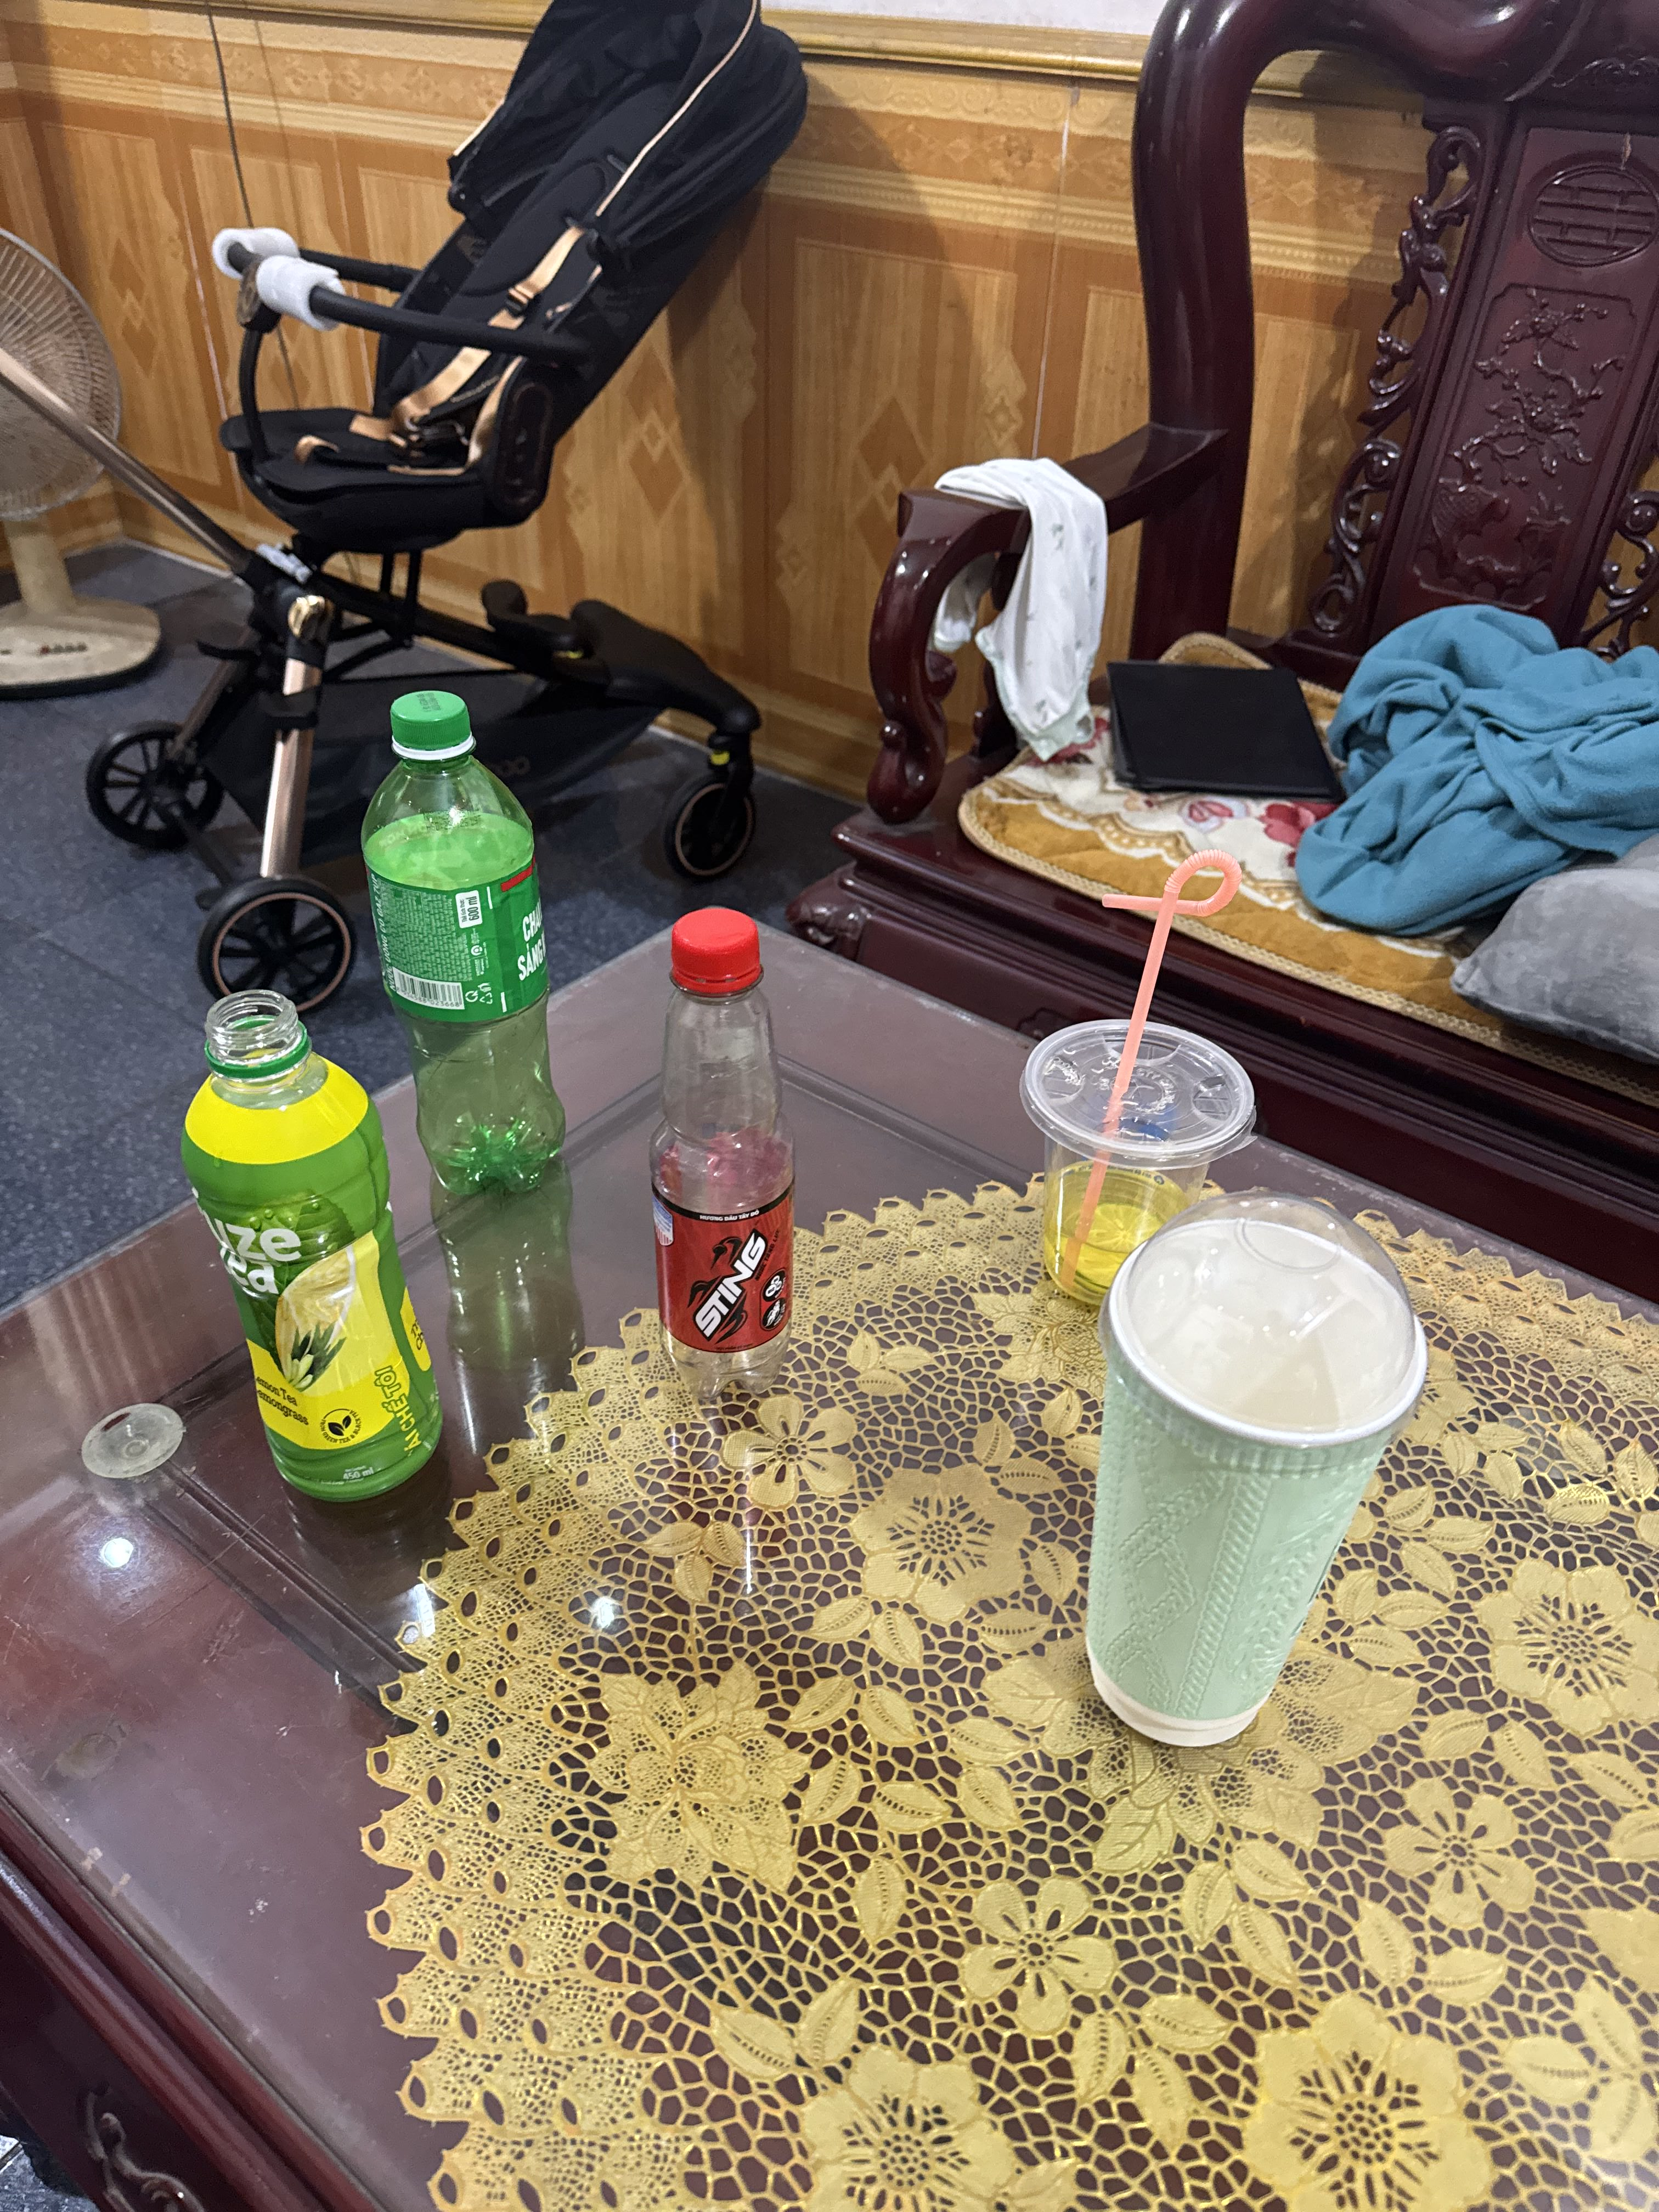2: (1075, 1170, 1445, 1797), (997, 993, 1281, 1336)
bottle: (171, 977, 476, 1521), (598, 883, 854, 1446), (349, 672, 615, 1198)
